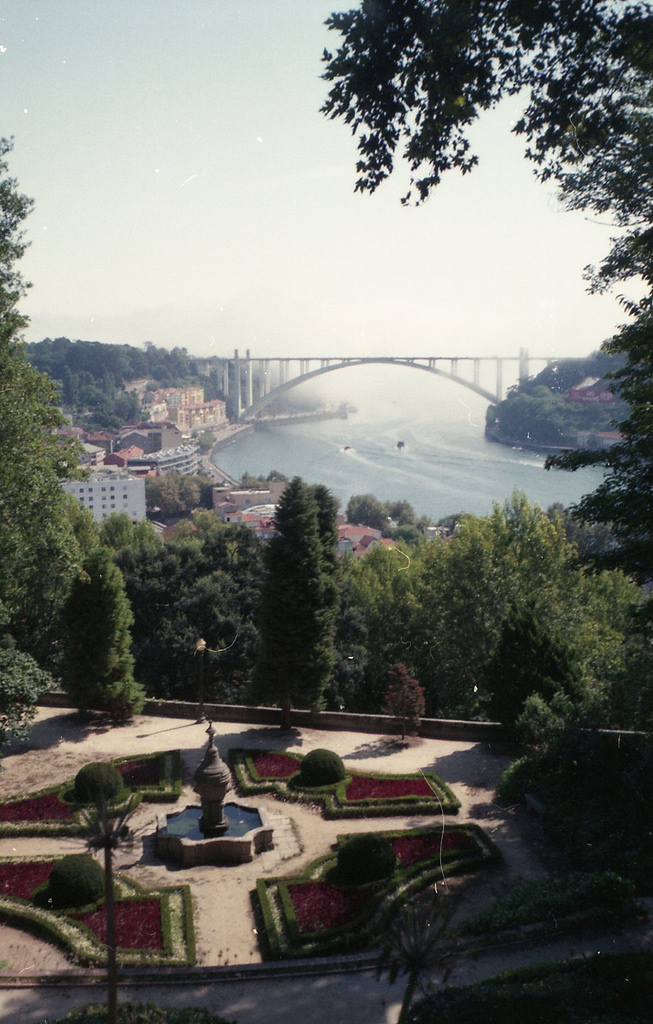arrabida: (195, 348, 552, 424)
